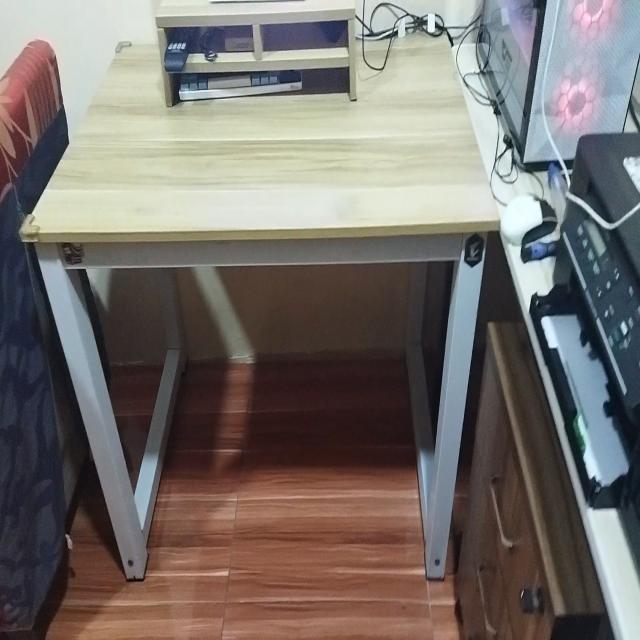table: (29, 26, 493, 606)
